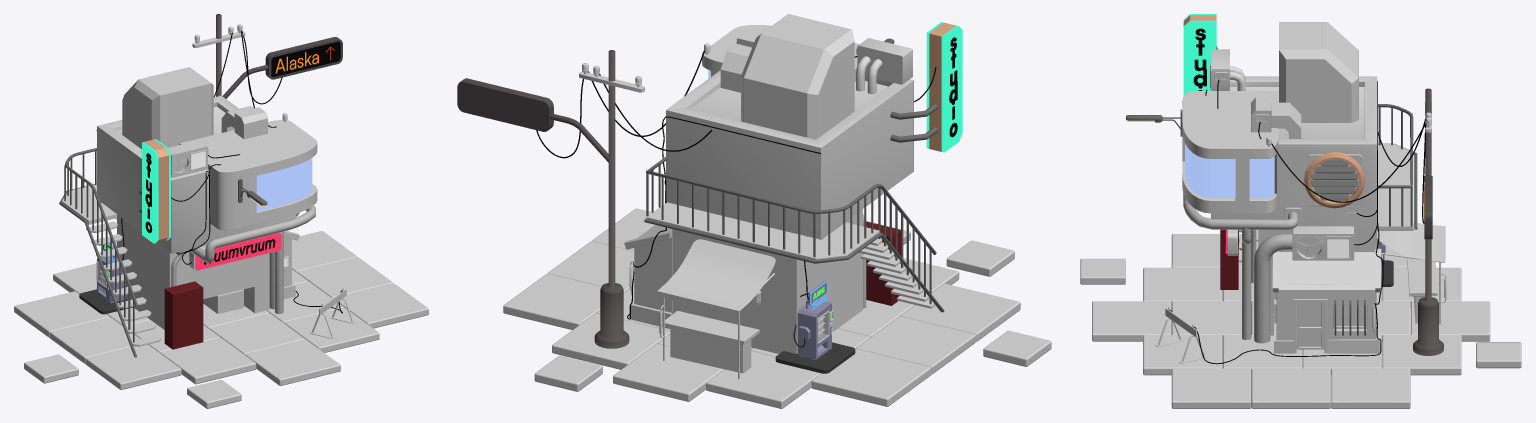
File: building-unwraping-merged-2.glb
The picture shows the model from 3 angles, left to right: view 1: azimuth 30°, elevation 25°; view 2: azimuth 150°, elevation 25°; view 3: azimuth 270°, elevation 25°; orthographic projection. The views are drawn at different scales.
Parts seen in each view (by area): view 1: Plane.058, Plane.002, Cube.001, Plane.019, Plane, Plane.014, Cube.008, Plane.044, Plane.020, Vert.002, Cube.006, Cube.007 (+18 smaller); view 2: Plane.058, Plane.002, Plane.019, Plane, Plane.042, Plane.018, Circle.011, Cube.004, Plane.004, Plane.038, Plane.043, Cube.006 (+15 smaller); view 3: Plane.058, Plane.002, Cube.001, Plane.019, Plane.004, Cube.008, Plane.018, Circle.011, Vert, Cube.003, Plane.042, Plane.032 (+24 smaller).
Part boxes in pixels (bbox=[...]): Plane.058: bbox=[14, 231, 428, 408]; Plane.002: bbox=[97, 95, 295, 253]; Cube.001: bbox=[179, 120, 317, 230]; Plane.019: bbox=[122, 67, 213, 148]; Plane: bbox=[117, 214, 269, 329]; Plane.014: bbox=[164, 281, 203, 349]; Cube.008: bbox=[256, 158, 312, 211]; Plane.044: bbox=[187, 257, 254, 298]; Plane.020: bbox=[86, 221, 160, 346]; Vert.002: bbox=[188, 205, 315, 262]; Cube.006: bbox=[142, 142, 158, 243]; Cube.007: bbox=[271, 41, 340, 76]; Plane.058: bbox=[503, 208, 1051, 408]; Plane.002: bbox=[666, 70, 913, 239]; Plane.019: bbox=[741, 14, 854, 139]; Plane: bbox=[672, 203, 862, 353]; Plane.042: bbox=[657, 239, 775, 315]; Plane.018: bbox=[646, 202, 879, 263]; Circle.011: bbox=[594, 50, 629, 348]; Cube.004: bbox=[457, 78, 553, 131]; Plane.004: bbox=[634, 225, 672, 312]; Plane.038: bbox=[646, 165, 873, 257]; Plane.043: bbox=[670, 328, 751, 373]; Cube.006: bbox=[941, 25, 962, 152]; Plane.058: bbox=[1080, 229, 1521, 408]; Plane.002: bbox=[1211, 76, 1377, 226]; Cube.001: bbox=[1182, 91, 1278, 213]; Plane.019: bbox=[1279, 22, 1358, 122]; Plane.004: bbox=[1276, 252, 1376, 353]; Cube.008: bbox=[1185, 144, 1274, 197]; Plane.018: bbox=[1377, 144, 1413, 230]; Circle.011: bbox=[1413, 88, 1443, 355]; Vert: bbox=[1254, 233, 1292, 343]; Cube.003: bbox=[1183, 20, 1216, 96]; Plane.042: bbox=[1377, 222, 1445, 261]; Plane.032: bbox=[1311, 159, 1357, 200].
Size of what is drawn, in the model's own units: 36.28 by 21.5 by 32.15.
